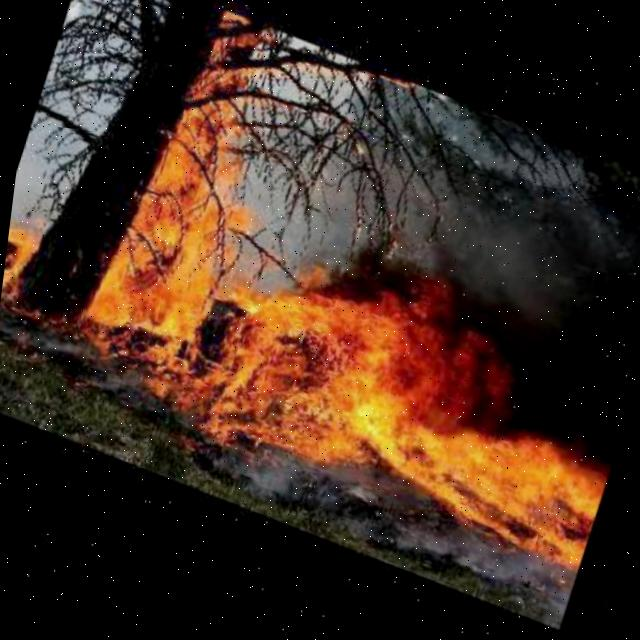fire: (209, 264, 616, 549), (90, 3, 277, 354)
